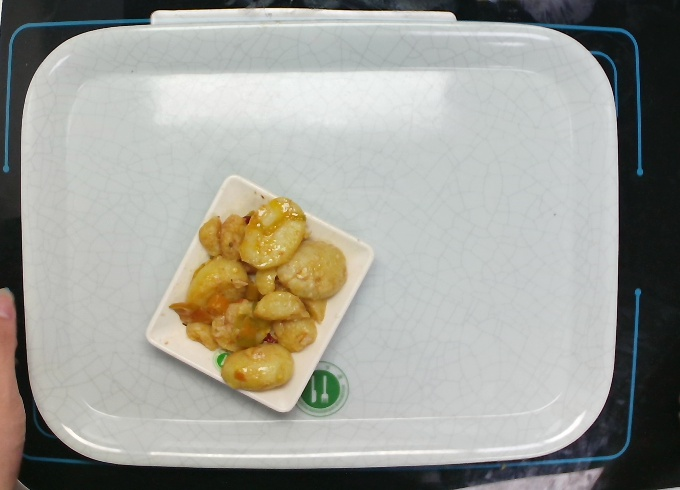WCQzf-Bai_Se_Si_Fang_Die: (144, 173, 376, 413)
